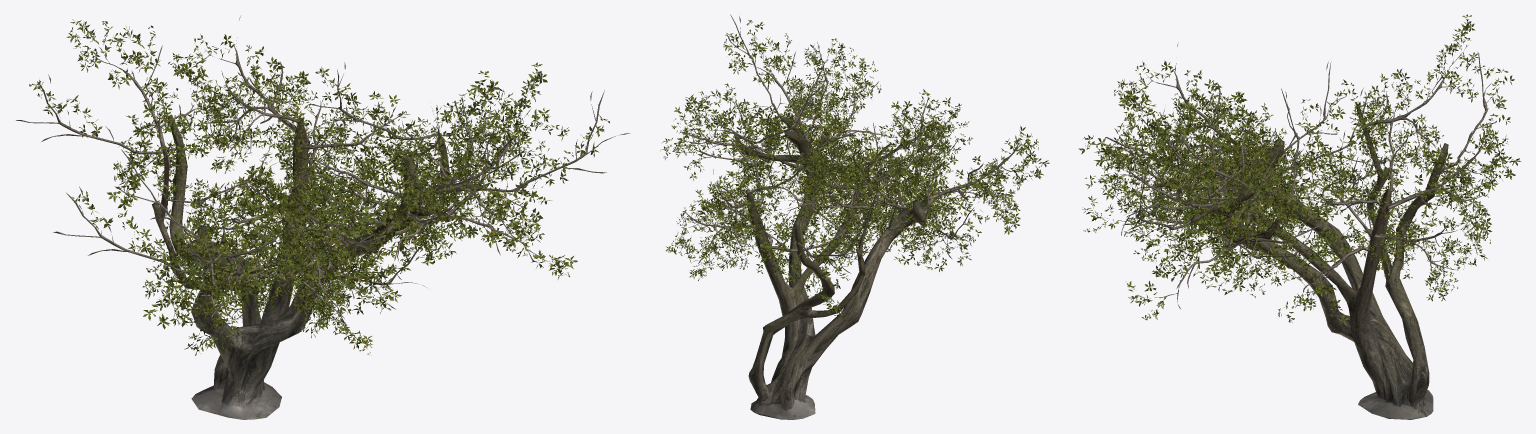
Rendered from IslandTree_02.glb.
3 views of the same model, side by side, from view 1: azimuth 30°, elevation 25°; view 2: azimuth 150°, elevation 25°; view 3: azimuth 270°, elevation 25° (orthographic). The views are drawn at different scales.
Visible parts, largest first — view 1: island_tree_02_LOD0; view 2: island_tree_02_LOD0; view 3: island_tree_02_LOD0.
Boxes of the visible parts, x1,y1,x2,y2 form: island_tree_02_LOD0: [16, 16, 630, 419]; island_tree_02_LOD0: [660, 14, 1049, 419]; island_tree_02_LOD0: [1078, 14, 1520, 419].
Bounding box in the file's own units: 4.21 × 3.4 × 4.07.
Materials: 3 (3 with a texture image).
